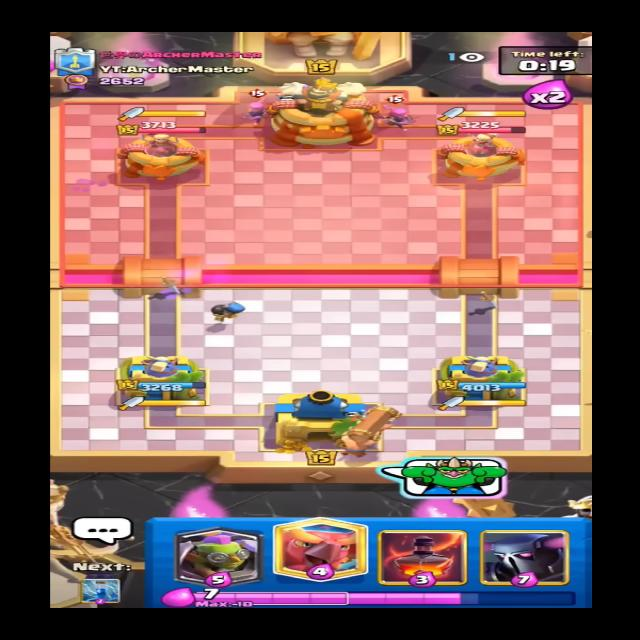Evoarchers: (380, 91, 420, 130), (230, 87, 275, 121)
